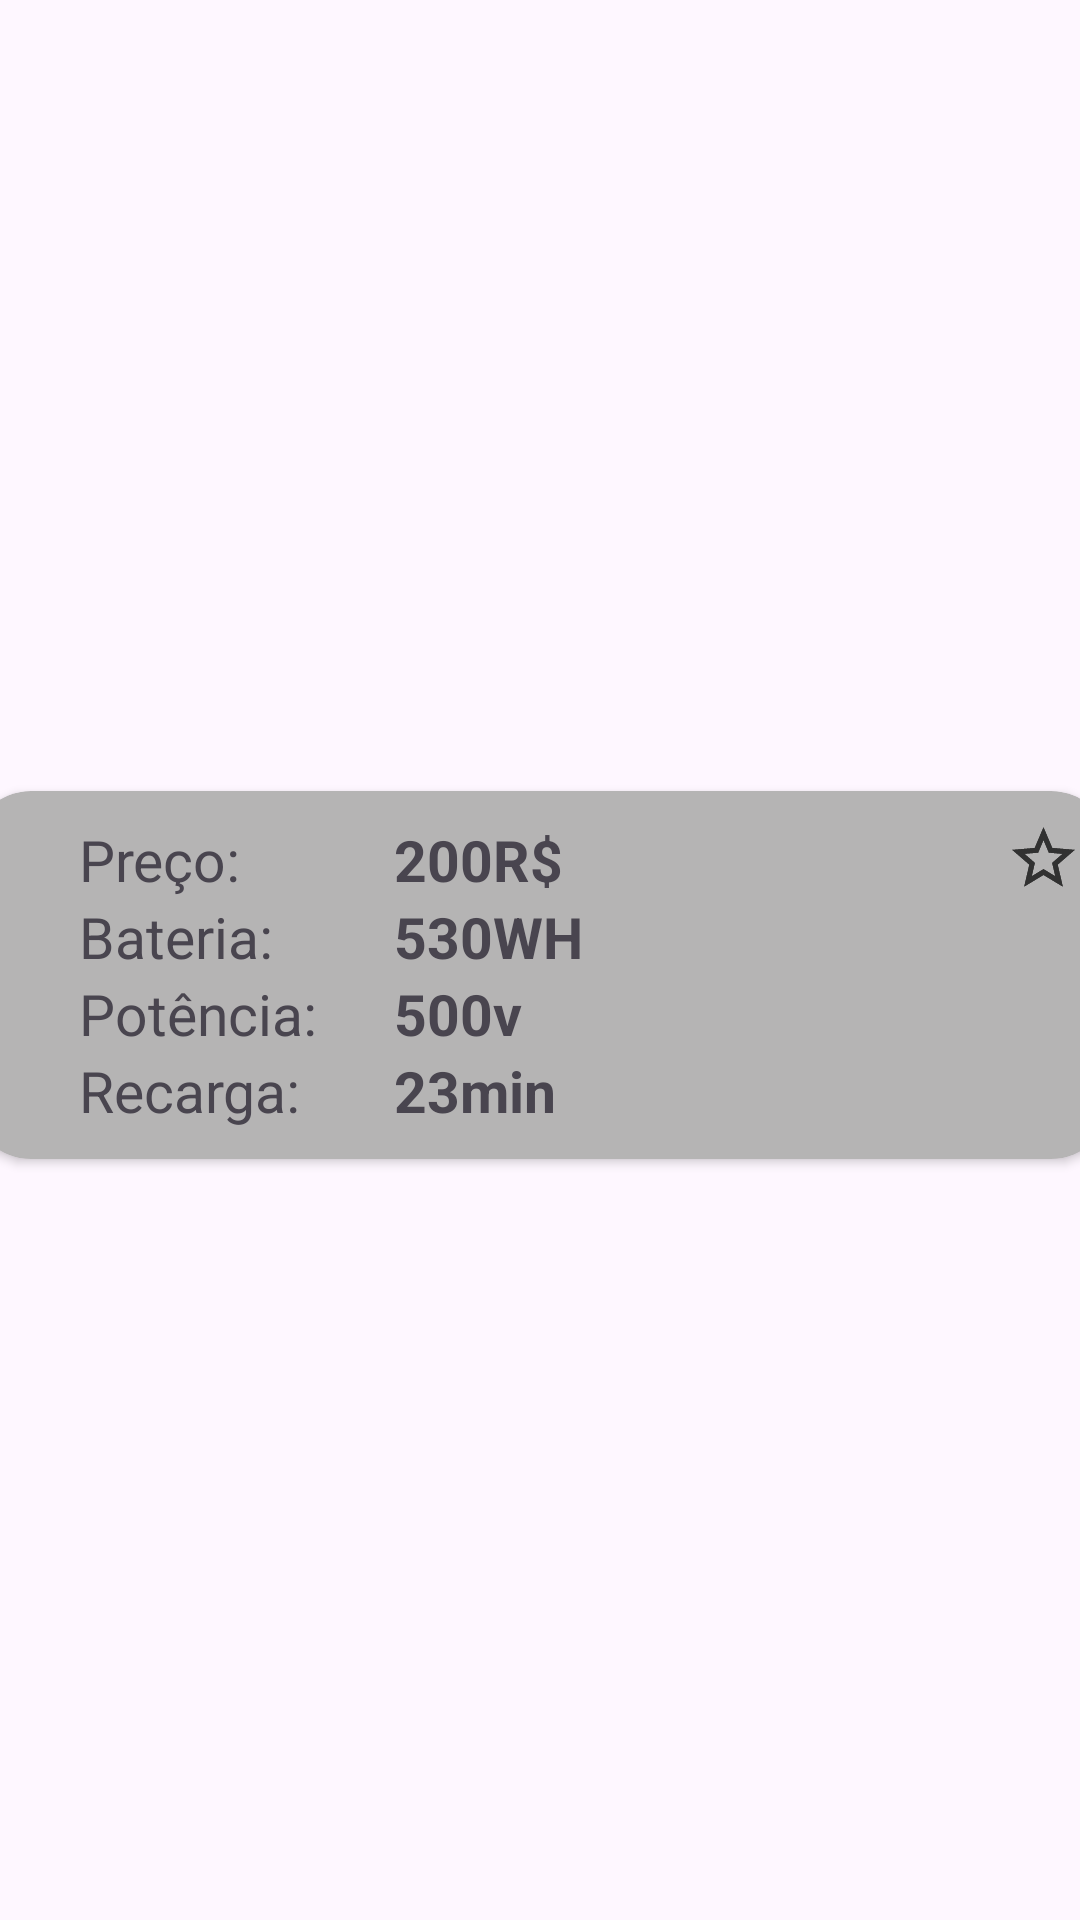

Named icons in this screenshot (1080x1920) and their centers, (x,y):
star: (1043,857)
